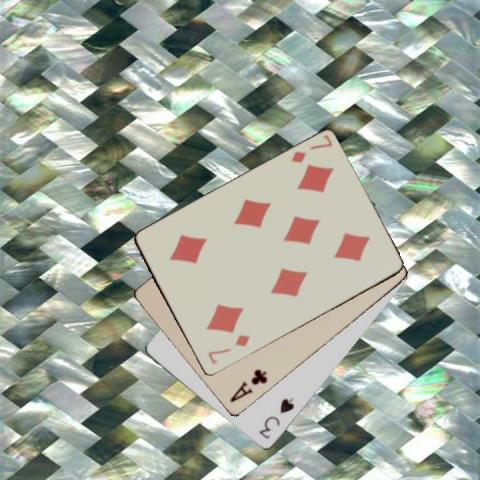3s: (256, 395, 296, 442)
7d: (205, 332, 251, 366), (287, 132, 334, 165)
Ac: (226, 366, 268, 404)
